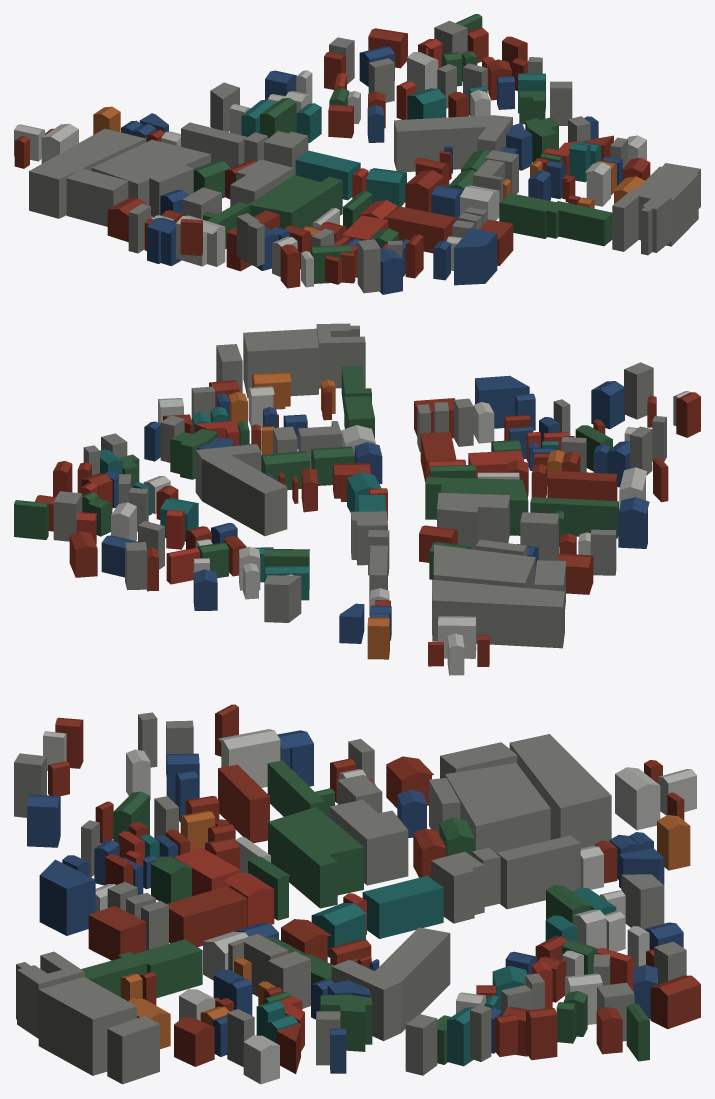
Rendered from near-17-109442-59465.5d42b427.glb.
3 renders of one model, top to bottom at view 1: azimuth 30°, elevation 25°; view 2: azimuth 150°, elevation 25°; view 3: azimuth 270°, elevation 25°, orthographic. The views are drawn at different scales.
Size of the model in its own units: 319 by 53.91 by 300.
